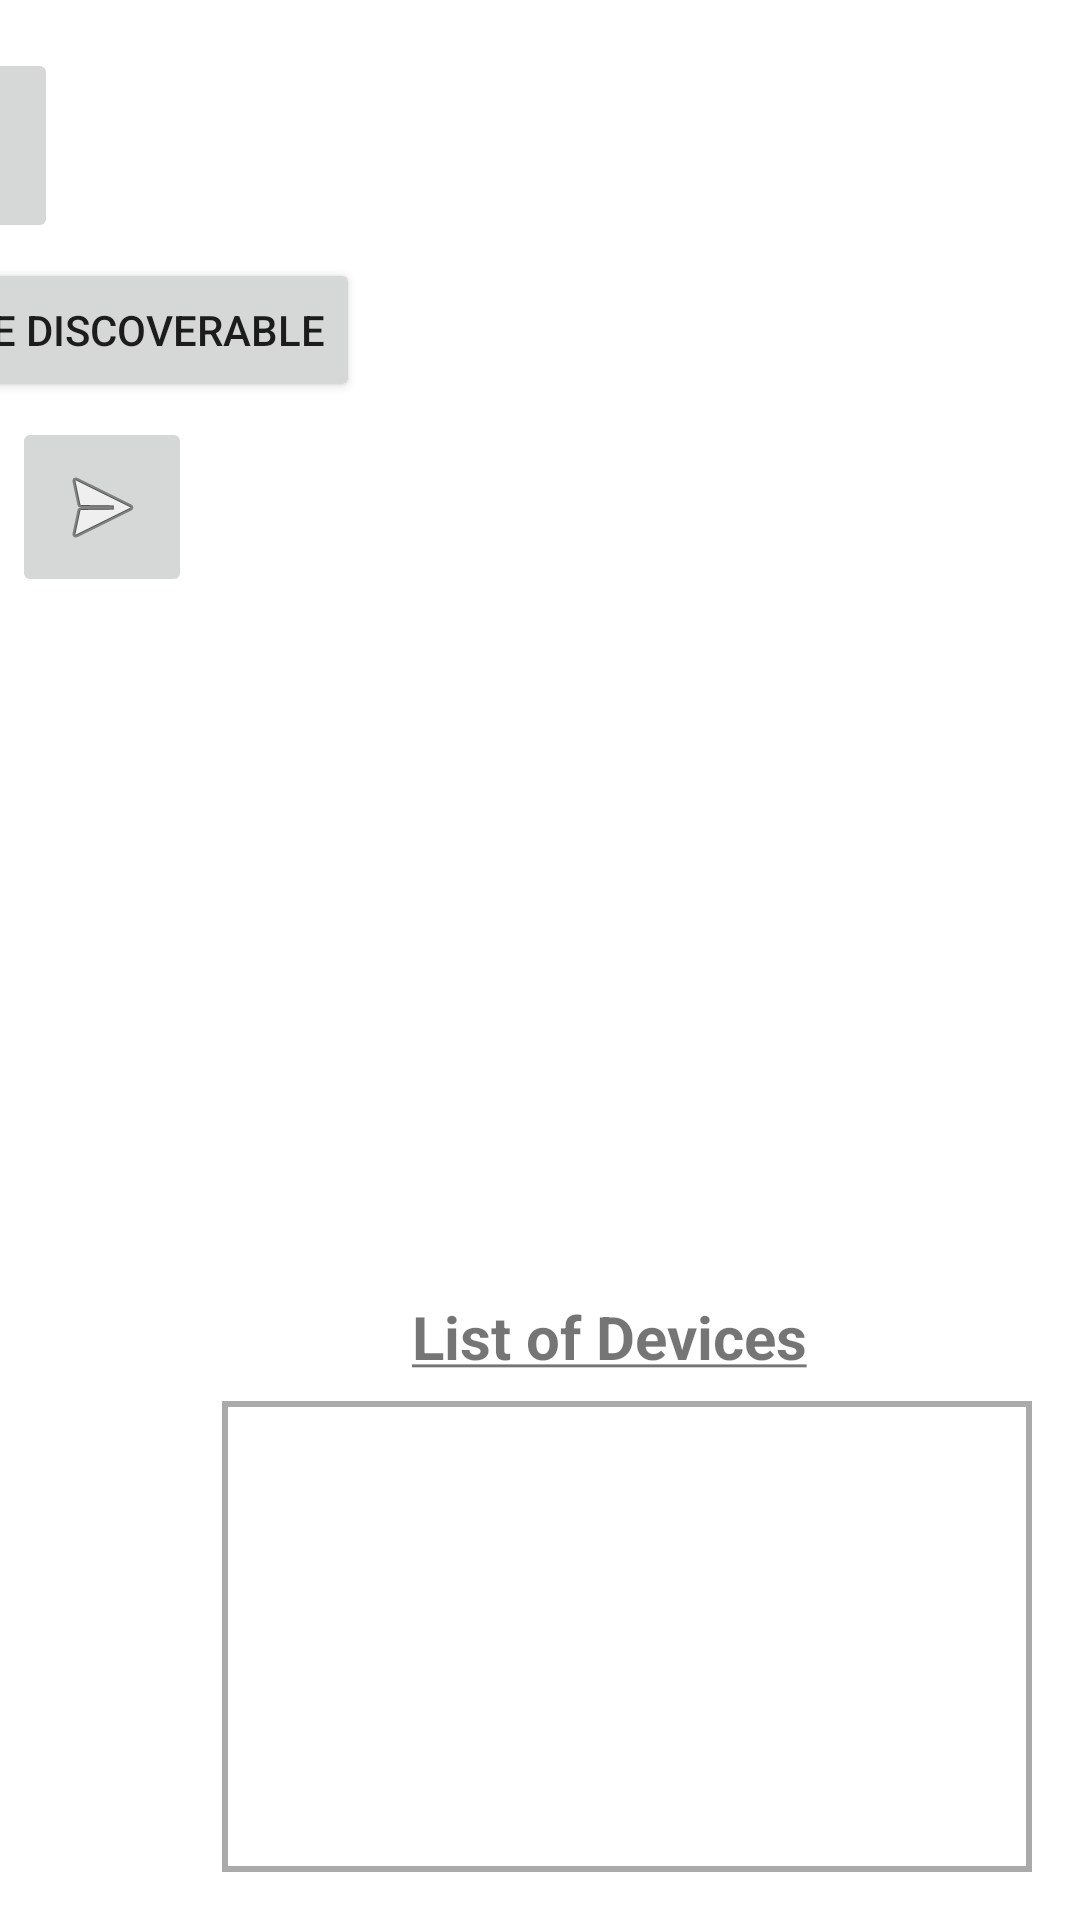

Named icons in this screenshot (1080×1920) and their bounding boxes, (x1,y1,x2,y2):
send: (24,435,180,579)
